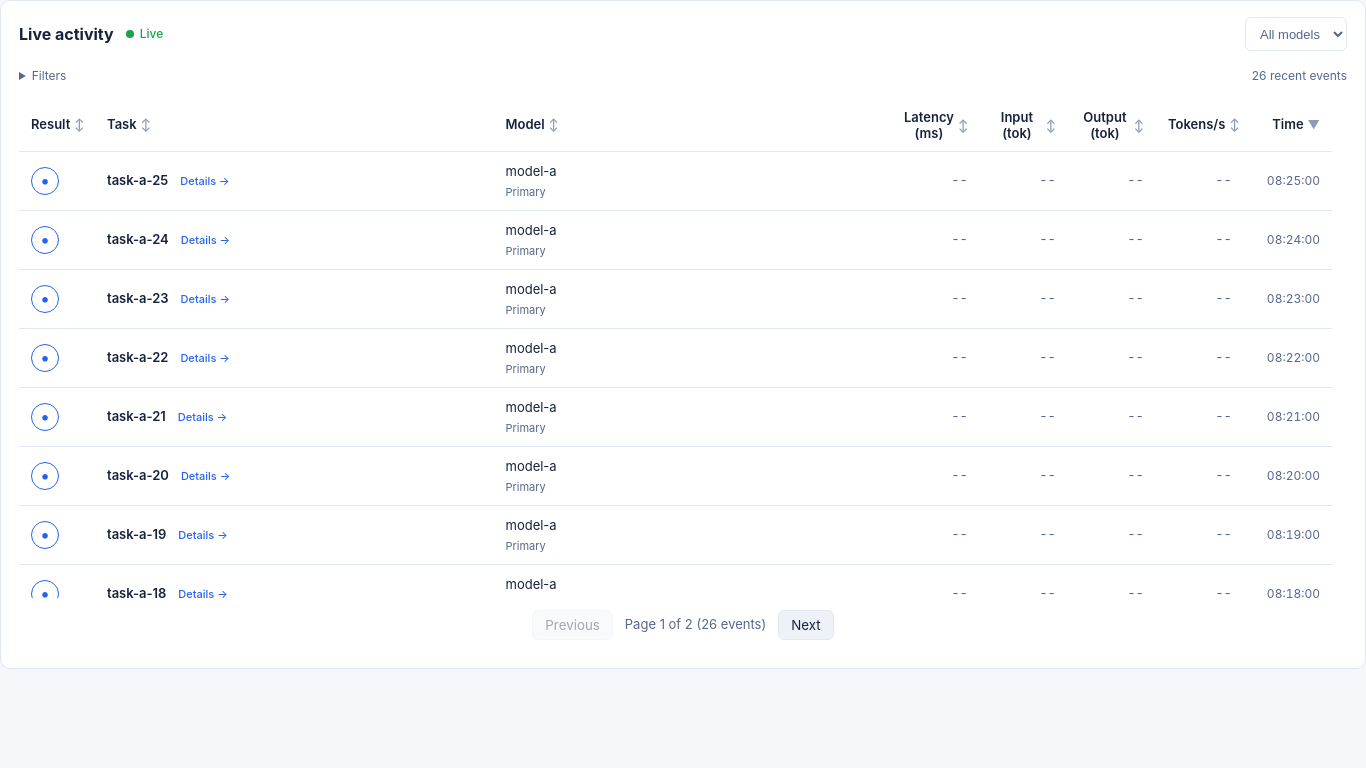
LiveEventStream › Tribunal votes › hides the column on pages without votes
Expected: the column heading "Tribunal" is not shown
Click the button with aria-label "Next page" at point(806, 625), box x1=778 y1=610 x2=834 y2=640
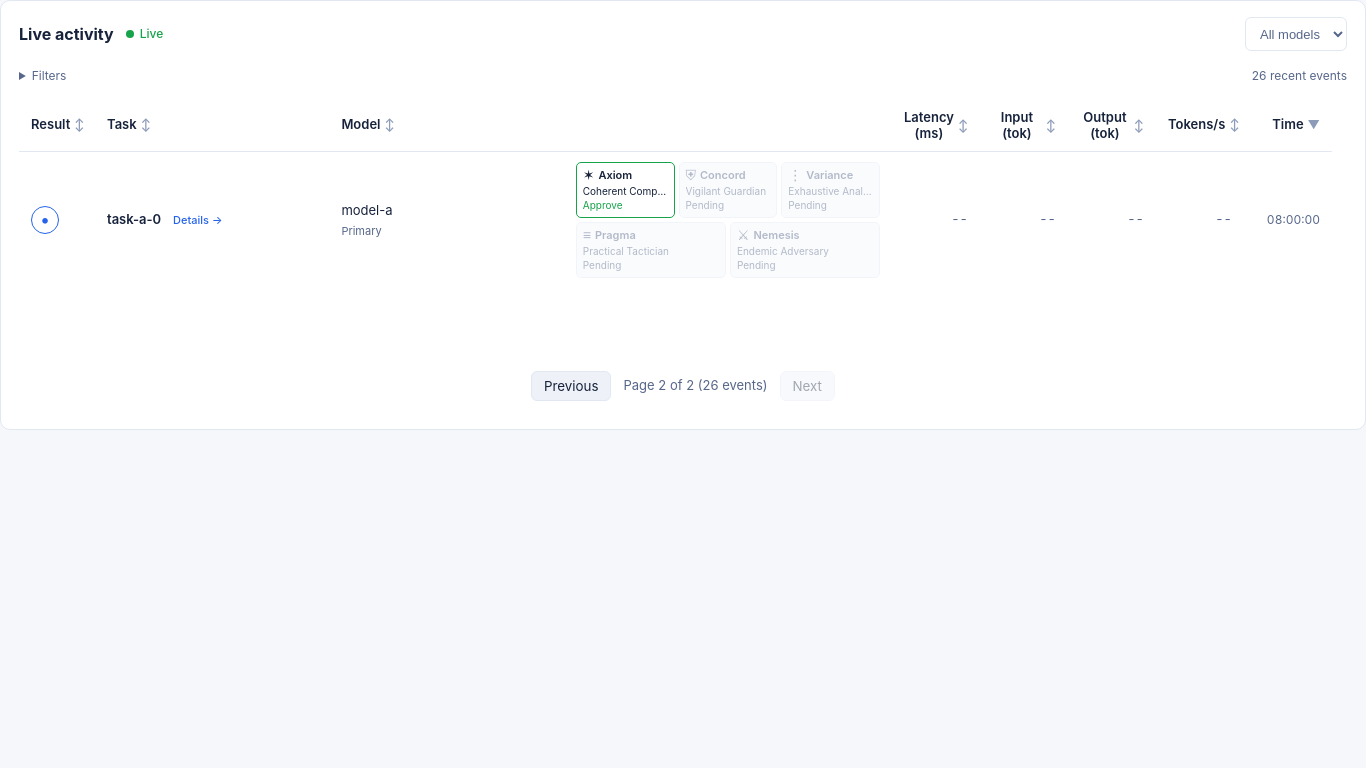
Expected: the column heading named "Tribunal" is shown, x1=564 y1=99 x2=892 y2=152
Click the button with aria-label "Previous page" at point(571, 386), box x1=531 y1=371 x2=612 y2=401
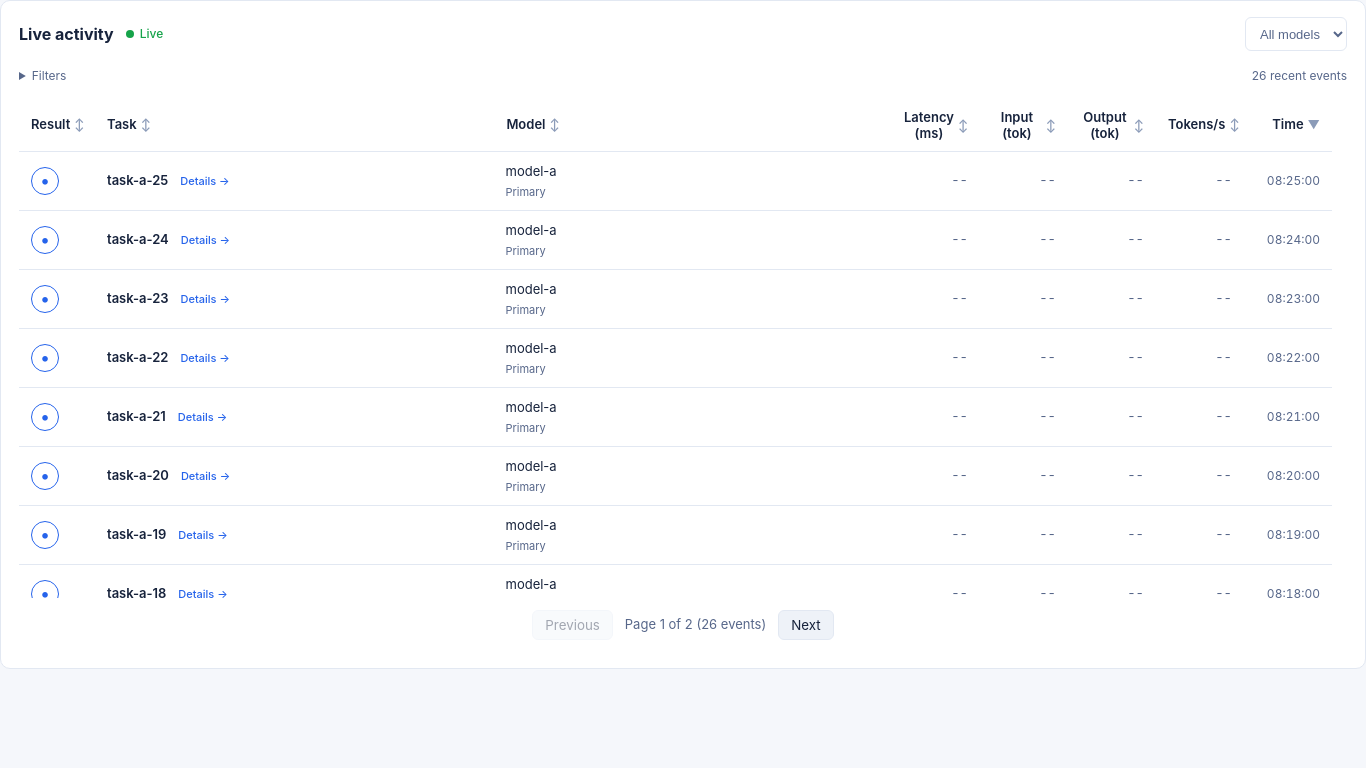
Result: the column heading "Tribunal" is gone
